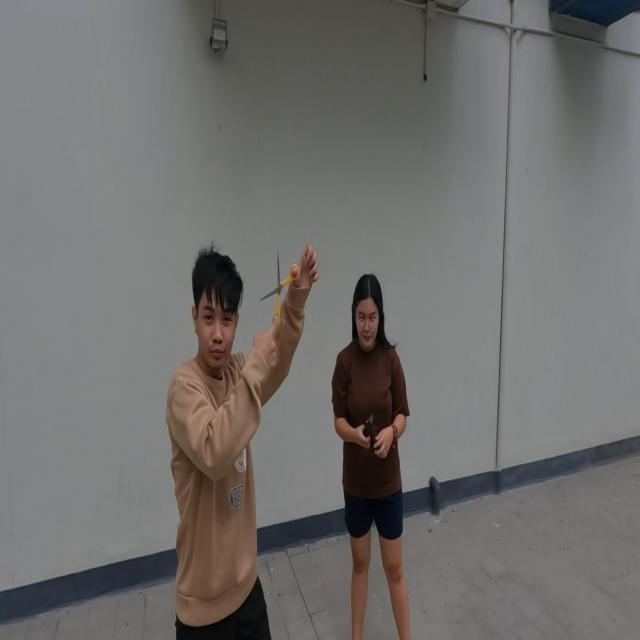scissor: (259, 251, 299, 330)
